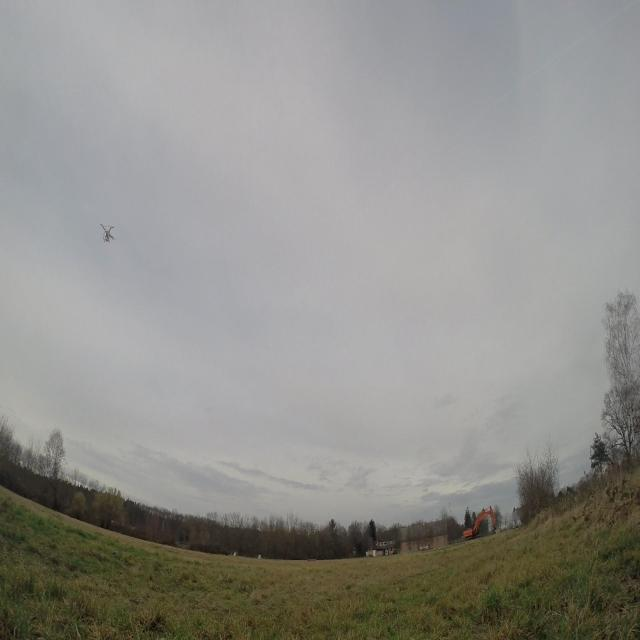drone: (98, 218, 119, 246)
